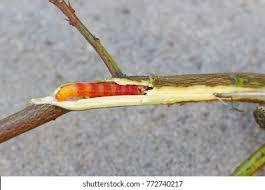Insects: (56, 79, 154, 103)
